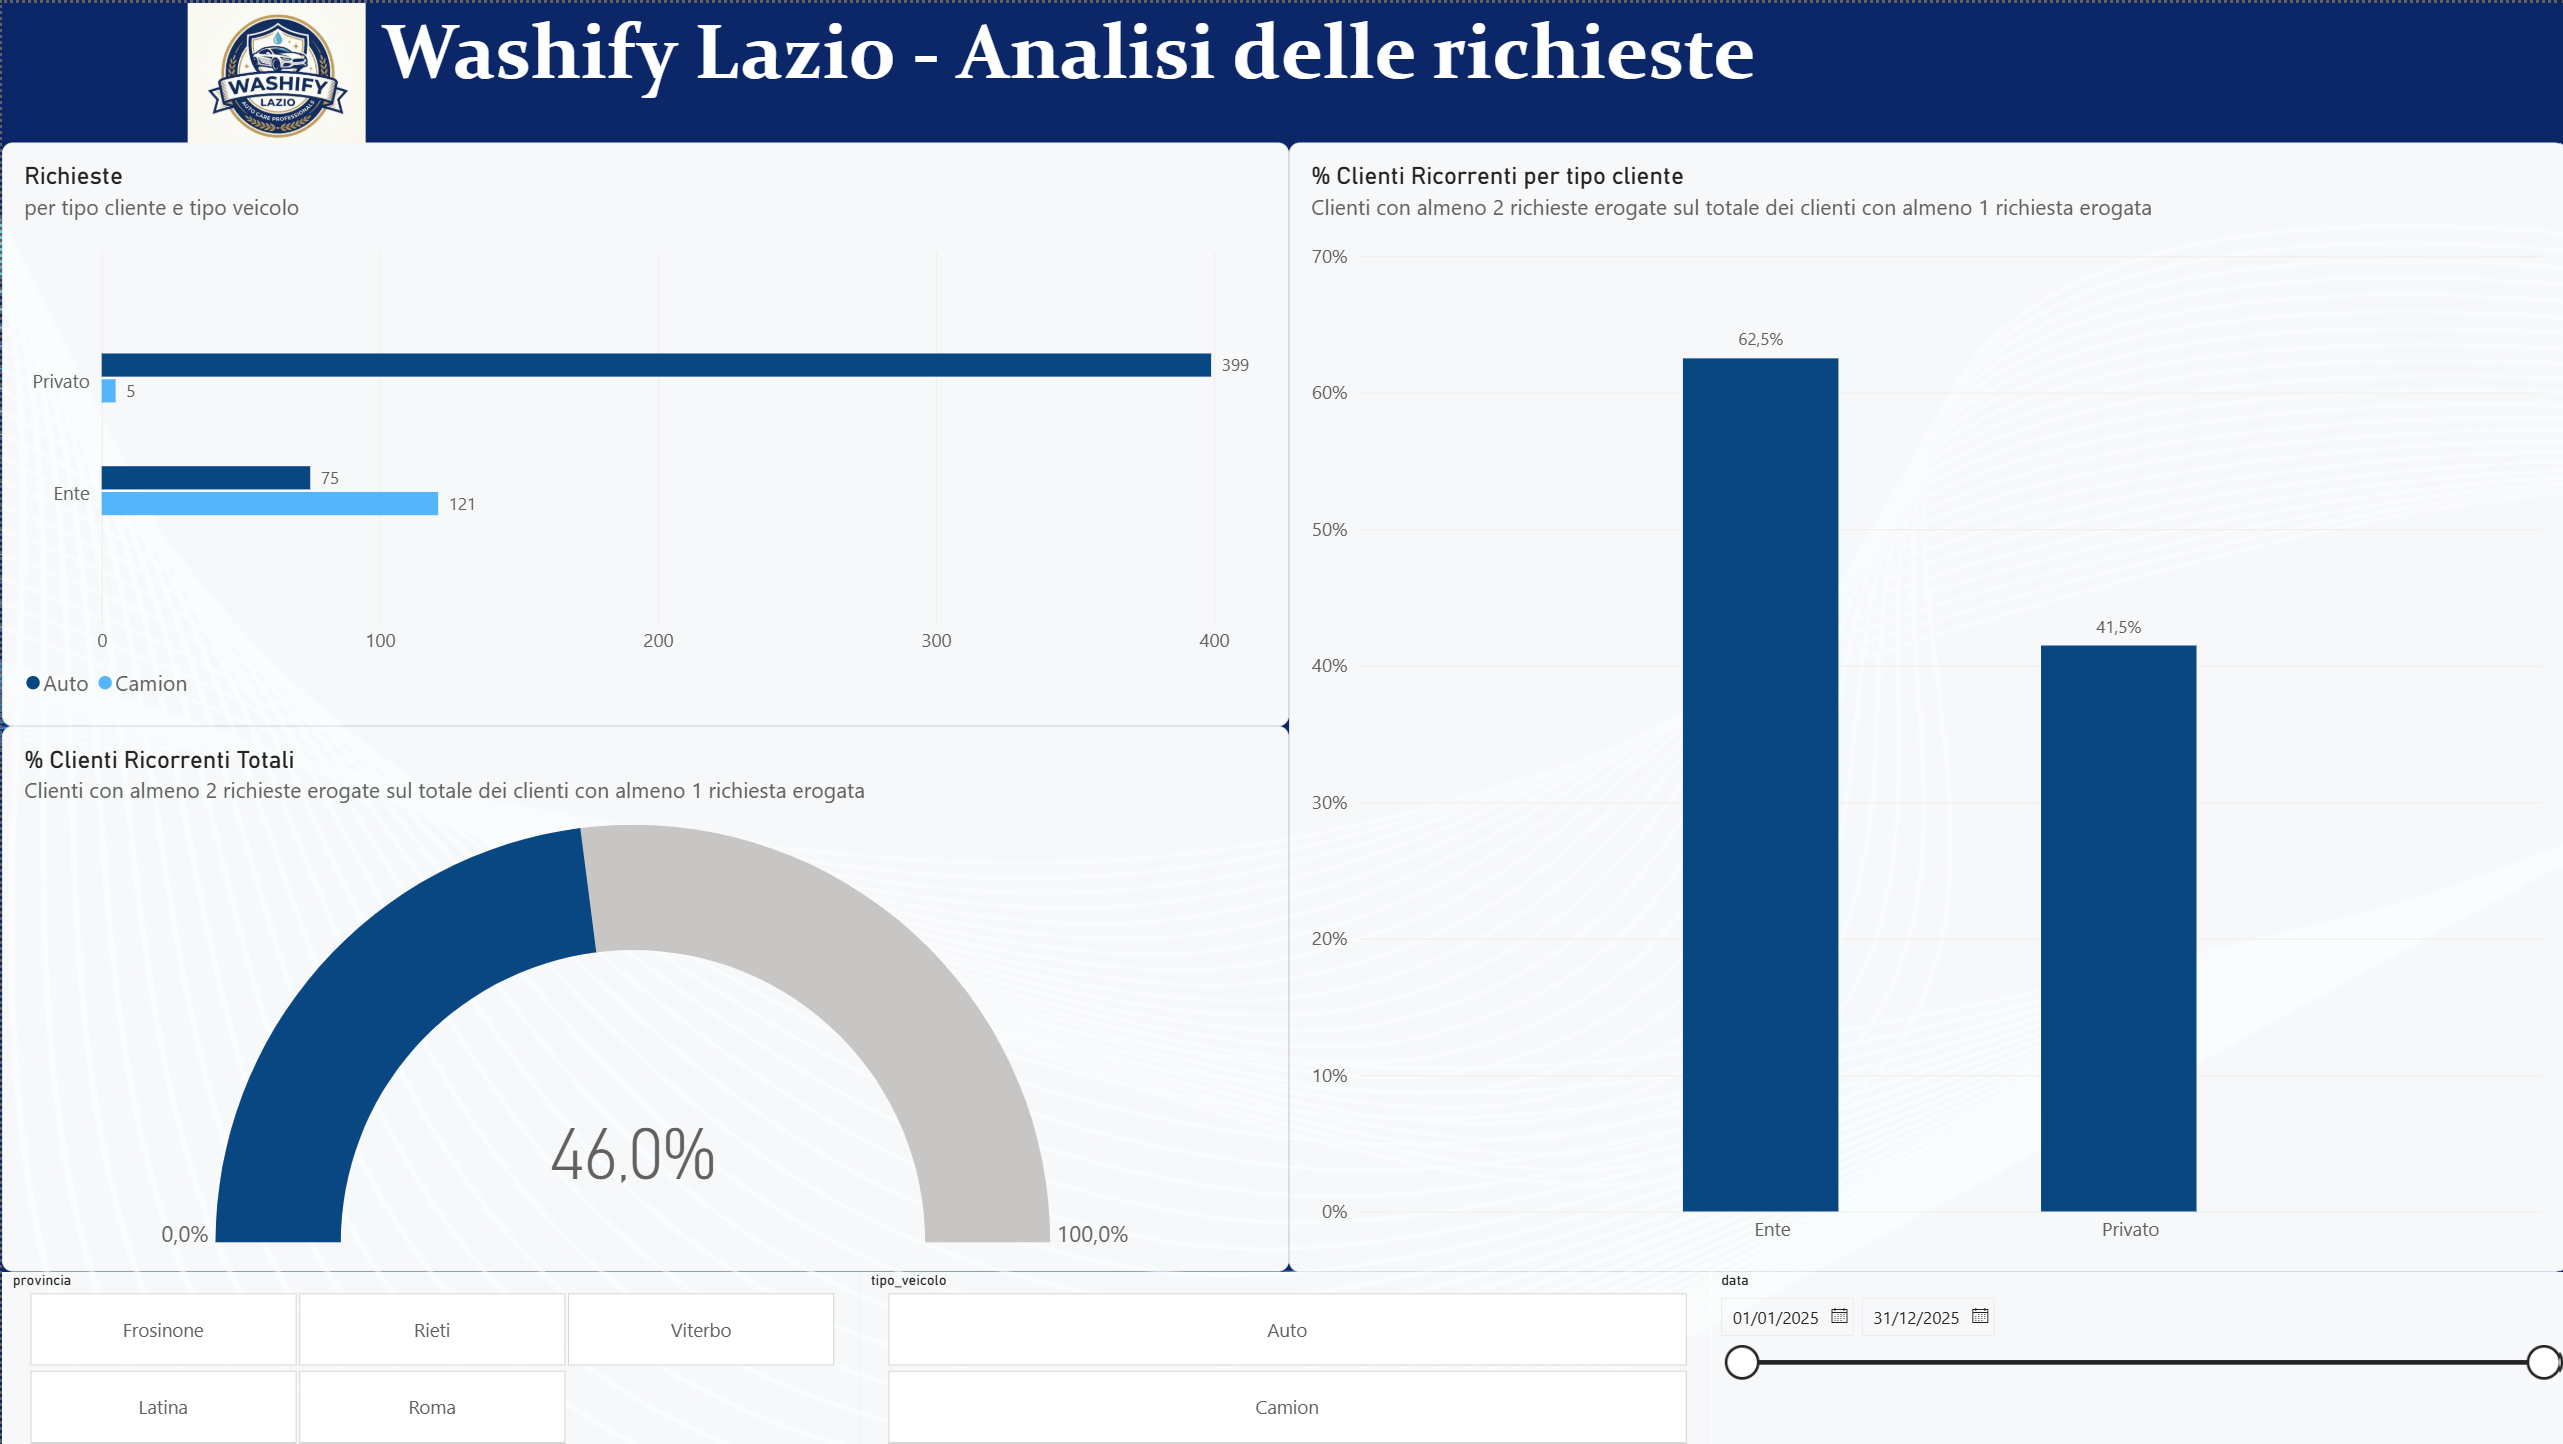

This screenshot's page, from the dashboard's own definition file:
{"tool":"powerbi","page":{"name":"Clienti e prodotti","canvas":[1920,1080],"ordinal":2},"visuals":[{"type":"clusteredBarChart","title":"Richieste","fields":{"Category":["dim_cliente.tipo"],"Series":["dim_prodotto.tipo_veicolo"],"Y":["fact_richieste.Richieste"]},"box":[0,104.5,964,437.1],"z":0},{"type":"gauge","title":"% Clienti Ricorrenti Totali","fields":{"Y":["dim_cliente.% Clienti Ricorrenti"]},"box":[0,541.6,964,409],"z":1000},{"type":"clusteredColumnChart","title":"% Clienti Ricorrenti per tipo cliente","fields":{"Category":["dim_cliente.tipo"],"Y":["dim_cliente.% Clienti Ricorrenti"]},"box":[964,104.5,956.2,846.1],"z":2000},{"type":"slicer","fields":{"Values":["dim_cliente.provincia"]},"box":[0,950.3,642.5,130.1],"z":3000},{"type":"slicer","fields":{"Values":["dim_prodotto.tipo_veicolo"]},"box":[642.5,950.3,638,130],"z":4000},{"type":"slicer","fields":{"Values":["dim_tempo.data"]},"box":[1280.3,950.3,640.1,130.1],"z":5000},{"type":"textbox","box":[284.6,0,1301.2,104.6],"z":6000},{"type":"image","box":[137,0,137,105.4],"z":7000}]}

Visuals, with their boxes in screenshot pixels (x1, y1, x2, y2), scaled from the page's 1920x1080 canvas onto the 2563x1444 screenshot:
"Richieste" clusteredBarChart: x1=0 y1=140 x2=1287 y2=724
"% Clienti Ricorrenti Totali" gauge: x1=0 y1=724 x2=1287 y2=1271
"% Clienti Ricorrenti per tipo cliente" clusteredColumnChart: x1=1287 y1=140 x2=2562 y2=1271
slicer - dim_cliente.provincia: x1=0 y1=1271 x2=858 y2=1443
slicer - dim_prodotto.tipo_veicolo: x1=858 y1=1271 x2=1709 y2=1443
slicer - dim_tempo.data: x1=1709 y1=1271 x2=2562 y2=1443
textbox: x1=380 y1=0 x2=2117 y2=140
image: x1=183 y1=0 x2=366 y2=141
